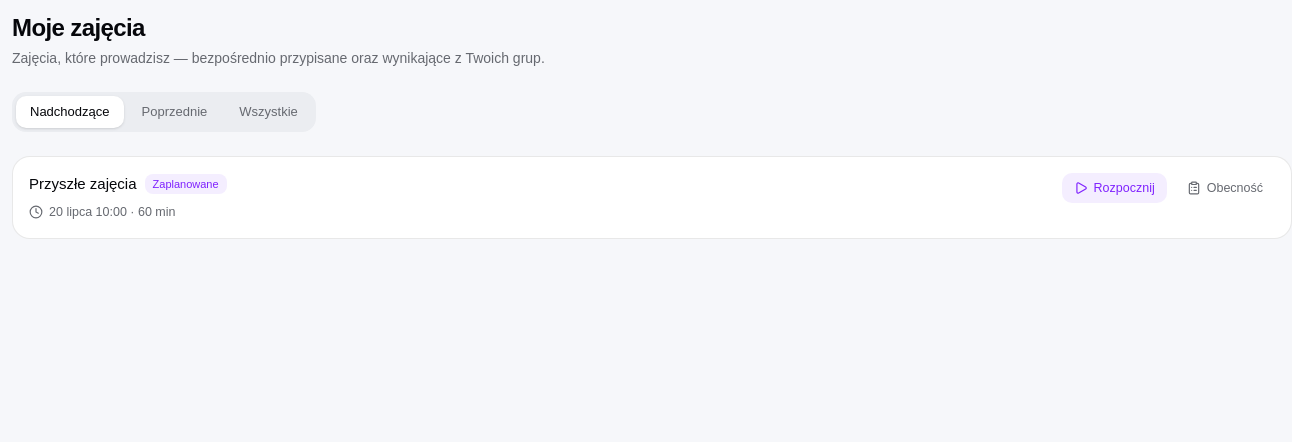
Scenario: TeacherClassesPage › podział na zakładki › „Wszystkie" pokazuje komplet
Click the button "Wszystkie". click: (269, 112)
box: [225, 96, 312, 128]
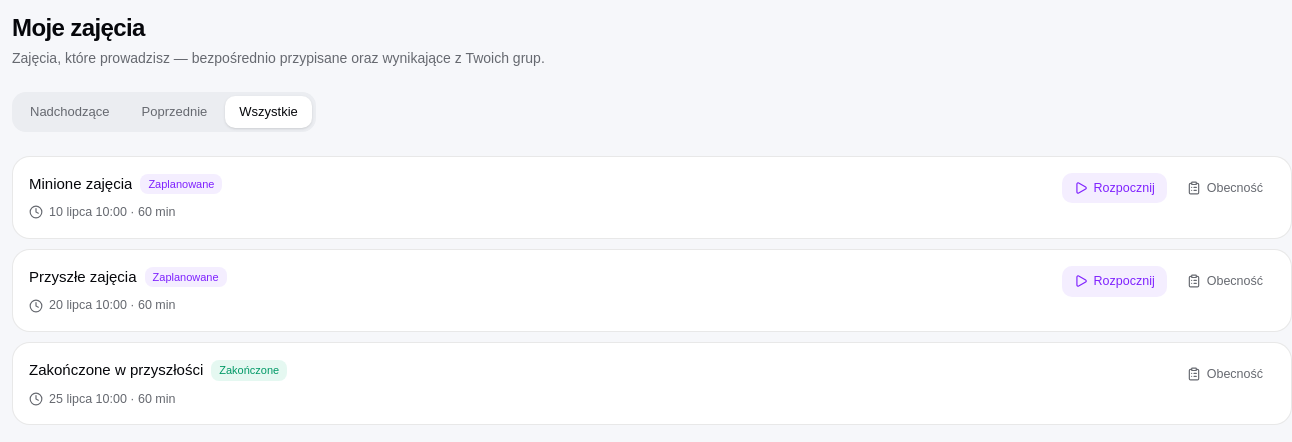
Expected: the heading "Przyszłe zajęcia" is shown, [29, 266, 136, 288]
Expected: the heading "Minione zajęcia" is shown, [29, 172, 132, 195]
Expected: the heading "Zakończone w przyszłości" is shown, [29, 359, 203, 382]
